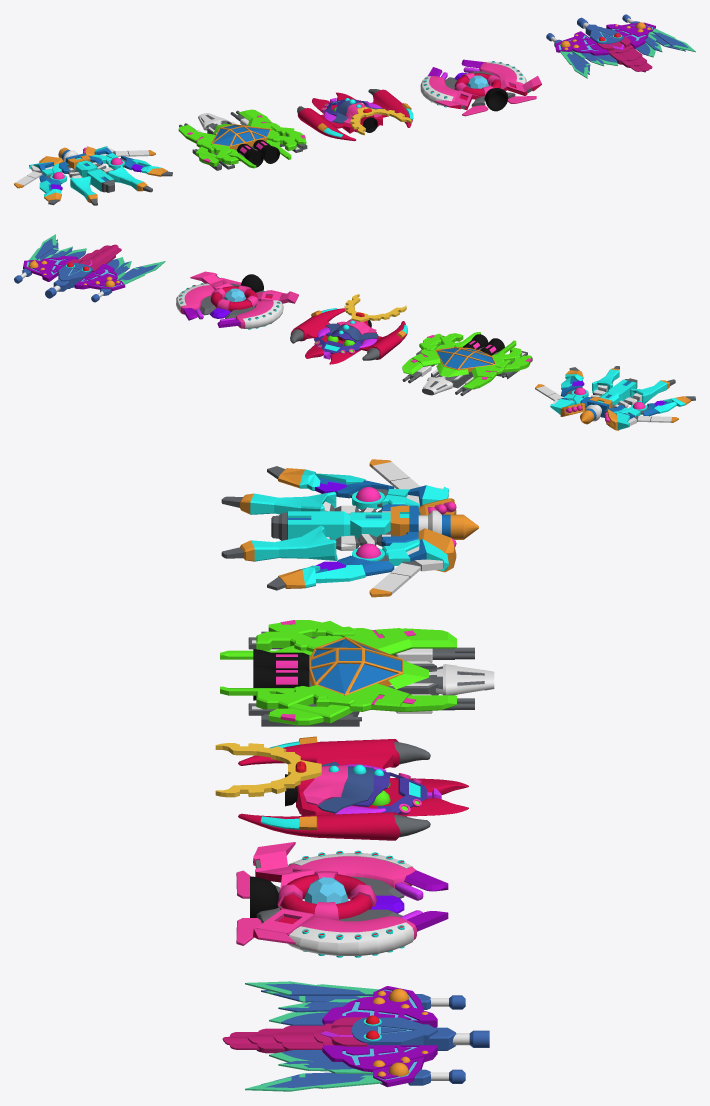
Rendered from Sheep.FBX.
The picture shows the model from 3 angles, top to bottom: view 1: azimuth 30°, elevation 25°; view 2: azimuth 150°, elevation 25°; view 3: azimuth 270°, elevation 25°; orthographic projection. The views are drawn at different scales.
Visible parts, largest first — view 1: Sheep02, Sheep01, Sheep05, Sheep04, Sheep03; view 2: Sheep02, Sheep01, Sheep05, Sheep04, Sheep03; view 3: Sheep02, Sheep01, Sheep05, Sheep04, Sheep03.
Part boxes in pixels (x1,y1,x2,y2): Sheep02: (178,109,307,170); Sheep01: (14,146,172,205); Sheep05: (546,14,695,78); Sheep04: (420,59,541,116); Sheep03: (297,89,413,141); Sheep02: (402,332,532,395); Sheep01: (535,366,695,430); Sheep05: (14,234,165,302); Sheep04: (176,271,298,329); Sheep03: (290,294,407,364); Sheep02: (220,620,494,726); Sheep01: (221,459,478,597); Sheep05: (222,981,489,1091); Sheep04: (236,842,448,957); Sheep03: (215,736,468,840).
Bounding box in the file's own units: 936 × 30.23 × 174.
